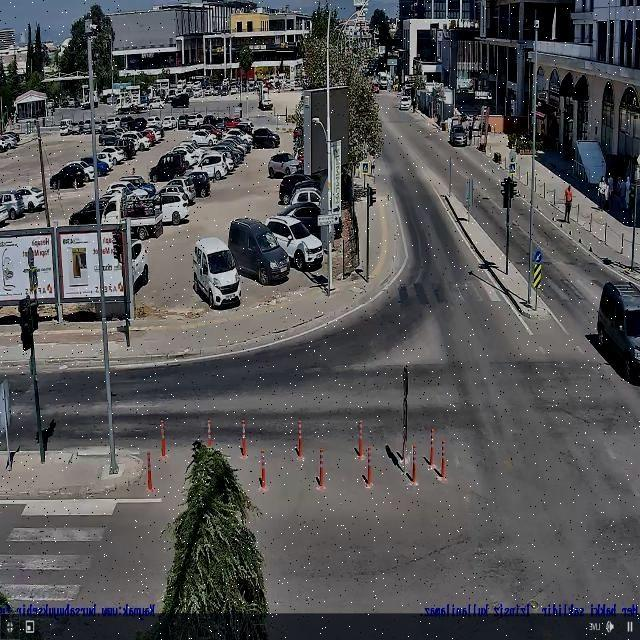Car: (596, 281, 640, 383), (189, 238, 241, 312), (262, 214, 325, 266), (153, 194, 190, 223), (148, 154, 183, 184), (189, 154, 227, 180), (250, 126, 282, 154), (49, 167, 85, 190), (181, 171, 210, 198), (294, 186, 328, 208), (268, 154, 300, 177), (16, 186, 44, 210), (167, 178, 195, 199), (66, 160, 95, 180), (450, 130, 469, 147), (398, 95, 412, 111)
Truck: (100, 197, 163, 235)
Van: (227, 214, 294, 281)
